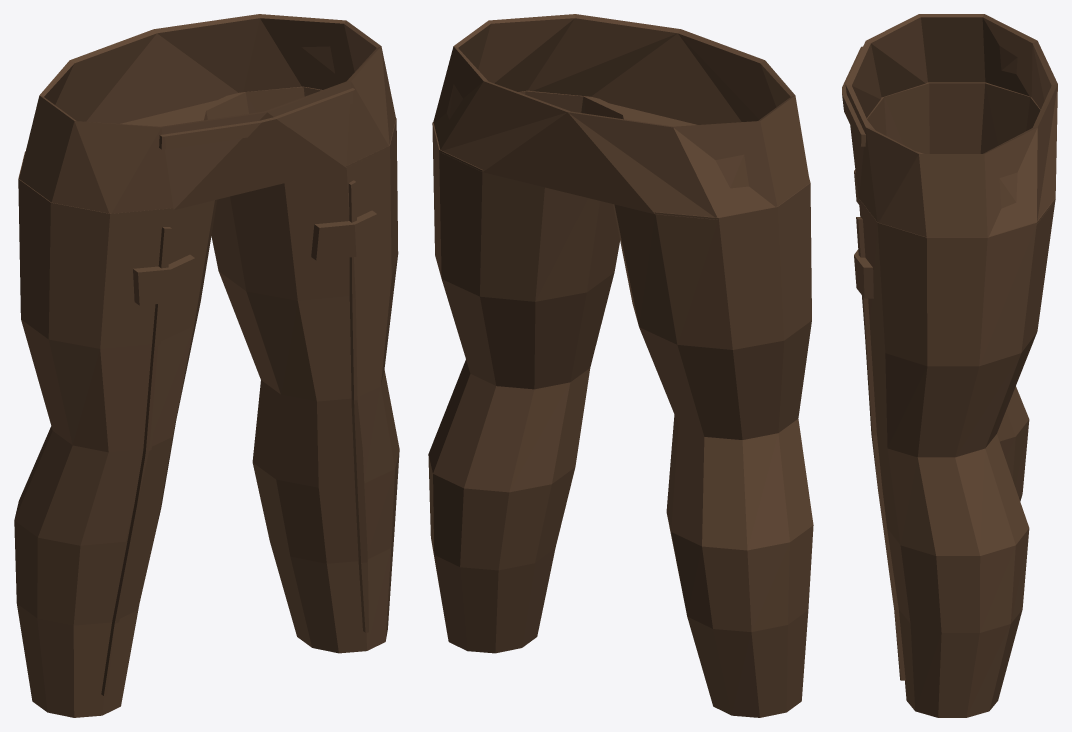
Rendered from leather_legs-female-thickHide.glb.
3 views of the same model, side by side, from view 1: azimuth 30°, elevation 25°; view 2: azimuth 150°, elevation 25°; view 3: azimuth 270°, elevation 25° (orthographic). The views are drawn at different scales.
Parts seen in each view (by area): view 1: leather trouser leg -1, leather trouser leg 1, leather trouser pelvis yoke, Trouser reinforced front seam 1, Trouser reinforced front seam -1, Trouser waist facing, Heavy hide binding leather trouser leg 1, Heavy hide binding leather trouser leg -1; view 2: leather trouser leg -1, leather trouser leg 1, leather trouser pelvis yoke; view 3: leather trouser leg 1, leather trouser pelvis yoke, leather trouser leg -1, Trouser reinforced front seam 1, Heavy hide binding leather trouser leg 1, Trouser waist facing.
Part boxes in pixels (<box>): leather trouser leg -1: <box>14,151,217,717</box>; leather trouser leg 1: <box>195,86,399,653</box>; leather trouser pelvis yoke: <box>19,14,395,213</box>; Trouser reinforced front seam 1: <box>348,180,371,632</box>; Trouser reinforced front seam -1: <box>101,227,171,696</box>; Trouser waist facing: <box>159,88,356,149</box>; Heavy hide binding leather trouser leg 1: <box>311,210,377,260</box>; Heavy hide binding leather trouser leg -1: <box>133,254,194,305</box>; leather trouser leg -1: <box>613,179,813,717</box>; leather trouser leg 1: <box>428,90,632,653</box>; leather trouser pelvis yoke: <box>433,14,809,219</box>; leather trouser leg 1: <box>859,198,1055,717</box>; leather trouser pelvis yoke: <box>845,14,1057,237</box>; leather trouser leg -1: <box>866,82,1040,501</box>; Trouser reinforced front seam 1: <box>856,217,905,680</box>; Heavy hide binding leather trouser leg 1: <box>854,249,873,298</box>; Trouser waist facing: <box>842,46,865,146</box>.
Bounding box in the file's own units: 2.19 × 3.45 × 1.21.
